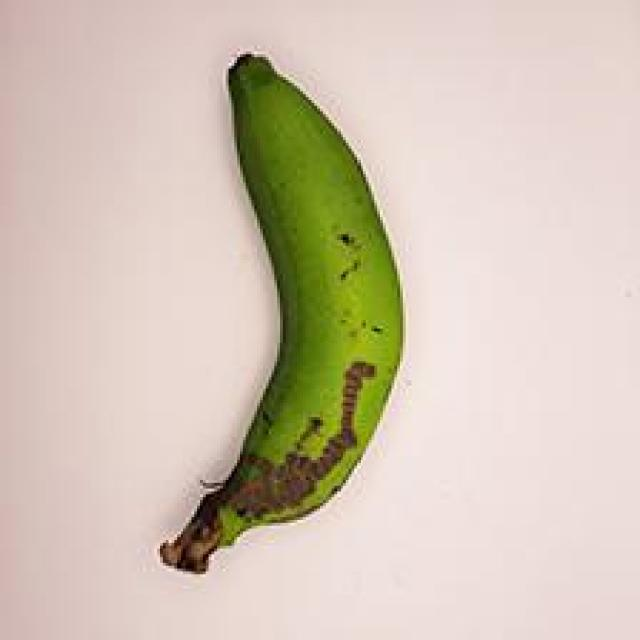Raw: (132, 42, 422, 577)
